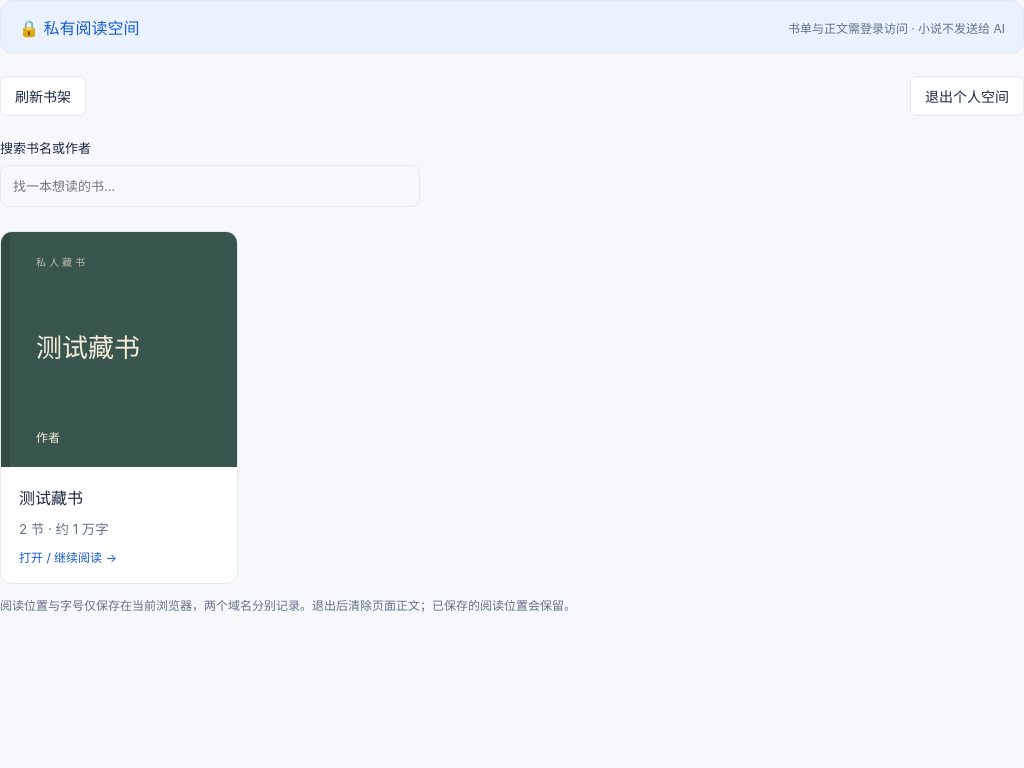
session expiry exits fullscreen and clears private content
Click the button "私人藏书 测试藏书 作者 测试藏书 2 节 · 约 1 万字 打开 / 继续阅读 →" at (119, 408), box [0,231,238,584]
(page scrolled)
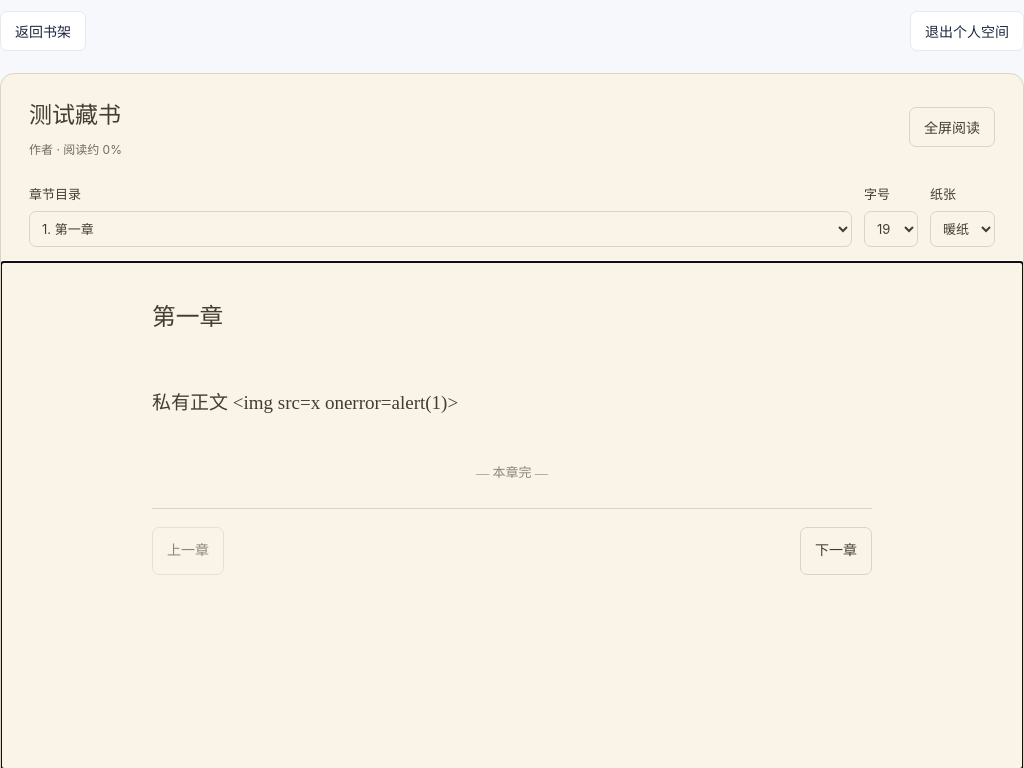
Check: the element named "小说正文" is shown, box [152,304,872,593]
Click the button "全屏阅读" at (952, 127), box [909,107,995,147]
(page scrolled)
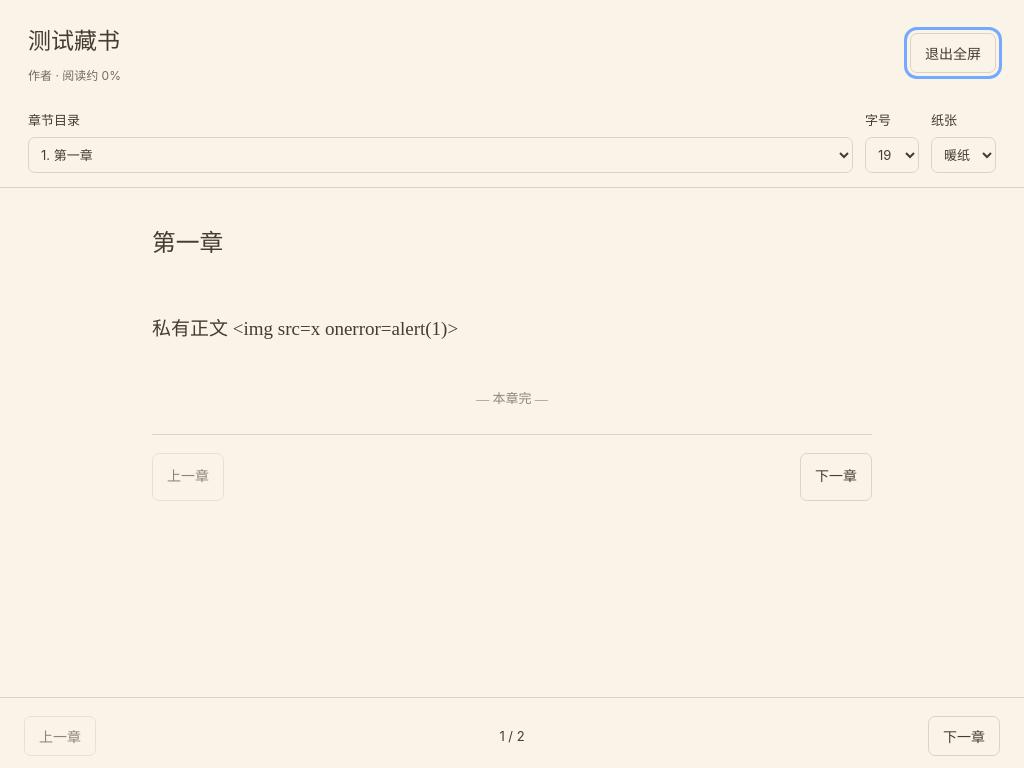
Click the 2nd button "下一章" at (964, 736), box [928,716,1000,756]
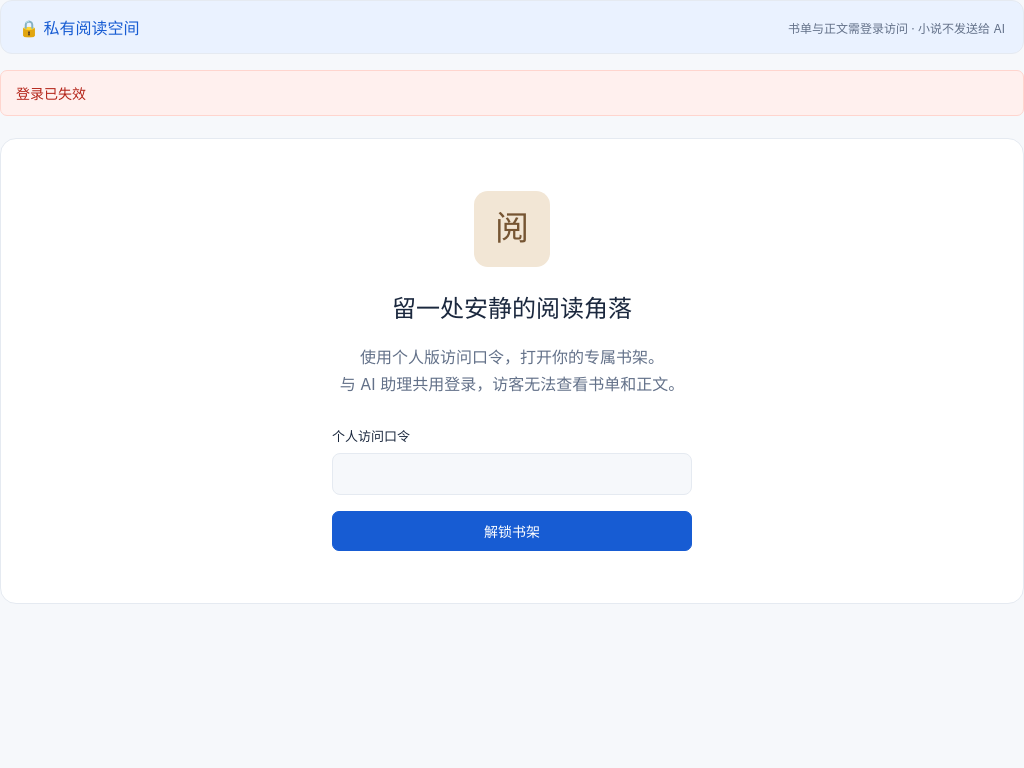
Check: the password field named "书架访问口令" is shown, box [332,453,692,495]
Check: the dialog is gone
Check: the field labelled "小说正文" is gone
